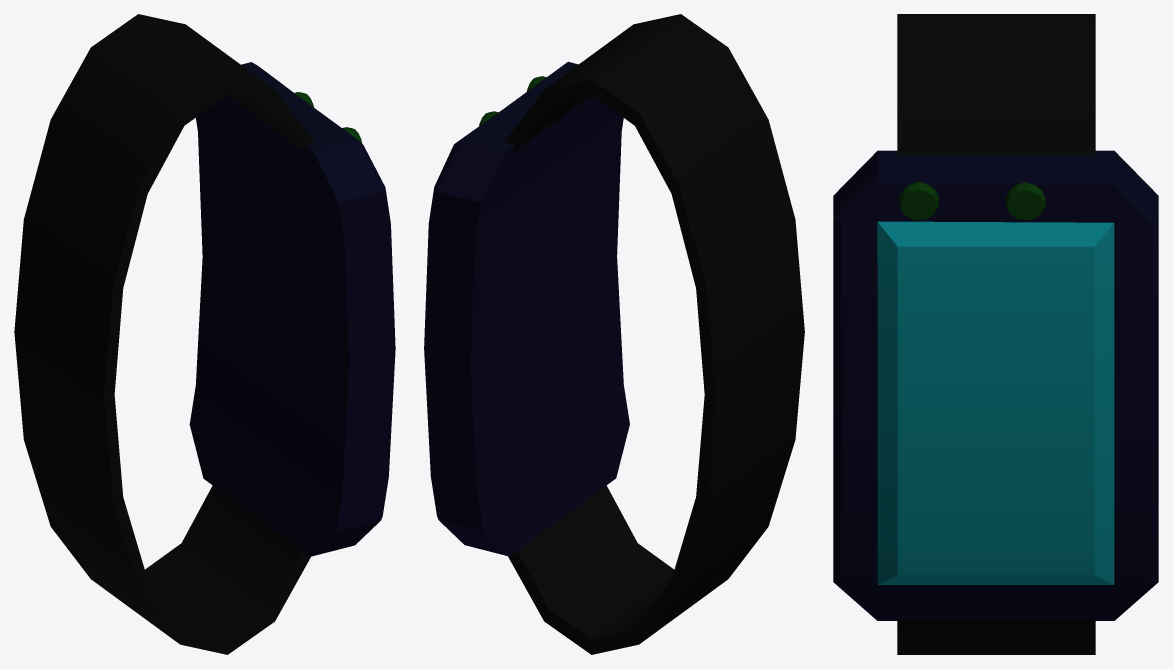
File: SM_Watch_Old.fbx
3 renders of one model, left to right at view 1: azimuth 30°, elevation 25°; view 2: azimuth 150°, elevation 25°; view 3: azimuth 270°, elevation 25°, orthographic. The views are drawn at different scales.
Visible parts, largest first — view 1: Watch; view 2: Watch; view 3: Watch.
Part boxes in pixels (x1=…): Watch: x1=14, y1=14, x2=395, y2=654; Watch: x1=424, y1=14, x2=804, y2=654; Watch: x1=833, y1=14, x2=1158, y2=654.
Size of the model in its own units: 3.54 by 6.99 by 3.23.
